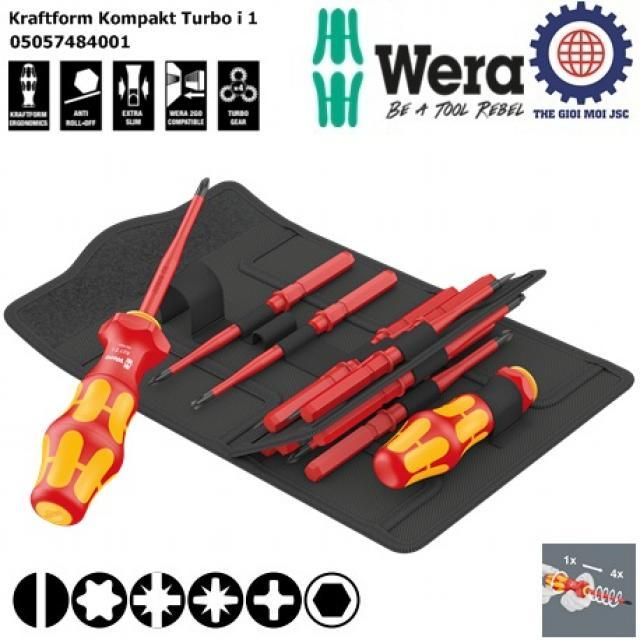screwdriver: (24, 160, 214, 532)
